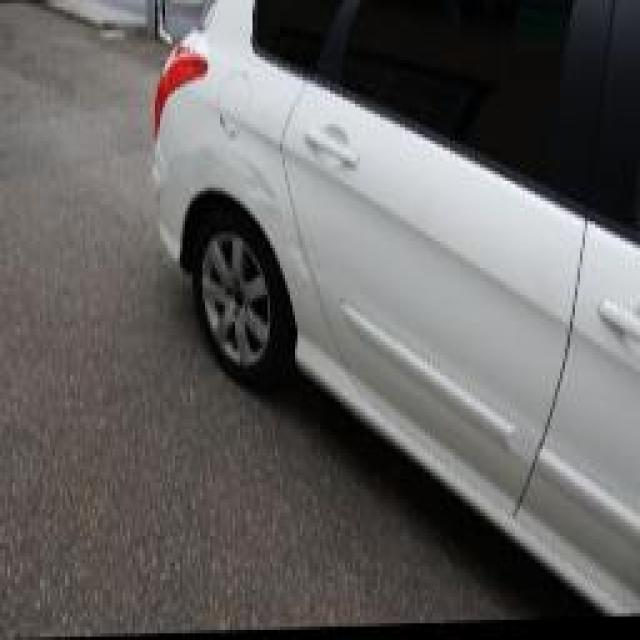Fender: (190, 121, 298, 288)
